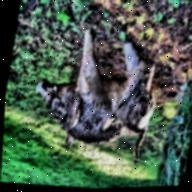boar: (10, 16, 170, 165)
